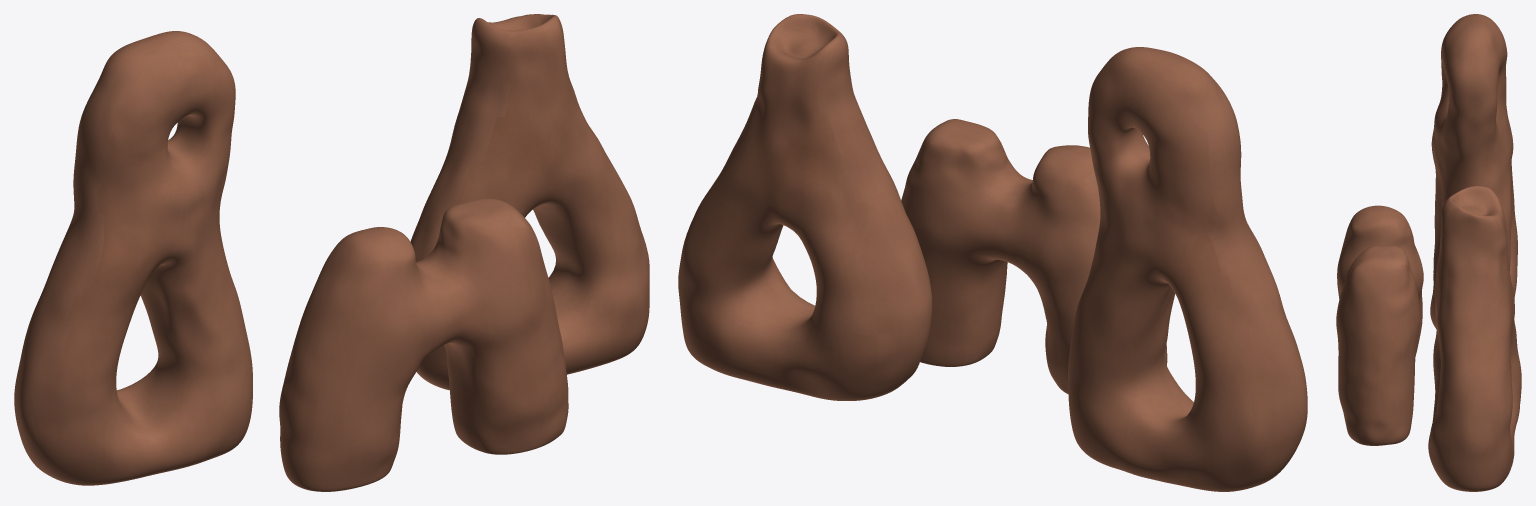
The picture shows the model from 3 angles, left to right: view 1: azimuth 30°, elevation 25°; view 2: azimuth 150°, elevation 25°; view 3: azimuth 270°, elevation 25°; orthographic projection. The views are drawn at different scales.
Visible parts, largest first — view 1: Vases_Set of 3 decorative vases.001_05; view 2: Vases_Set of 3 decorative vases.001_05; view 3: Vases_Set of 3 decorative vases.001_05.
Boxes of the visible parts, x1,y1,x2,y2 form: Vases_Set of 3 decorative vases.001_05: (14,14,649,491); Vases_Set of 3 decorative vases.001_05: (678,14,1307,491); Vases_Set of 3 decorative vases.001_05: (1336,14,1521,491).
Bounding box in the file's own units: 0.3562 × 0.2272 × 0.124.
1 material, 1 textured.
